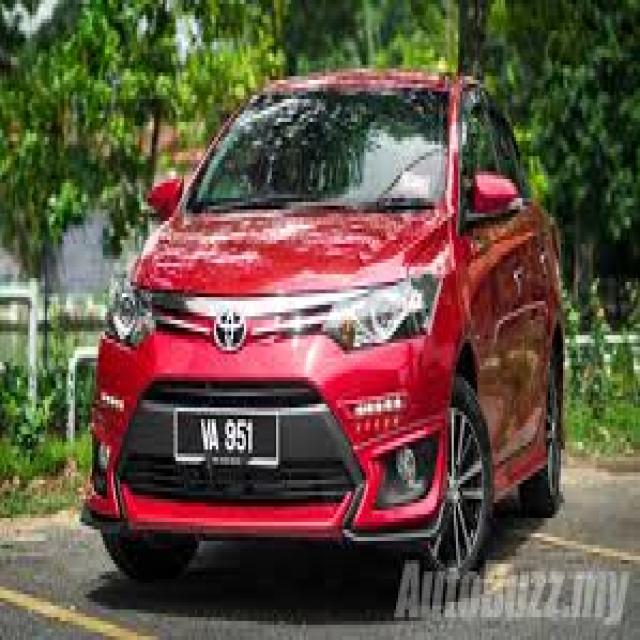ToyotaVios: (79, 61, 567, 583)
